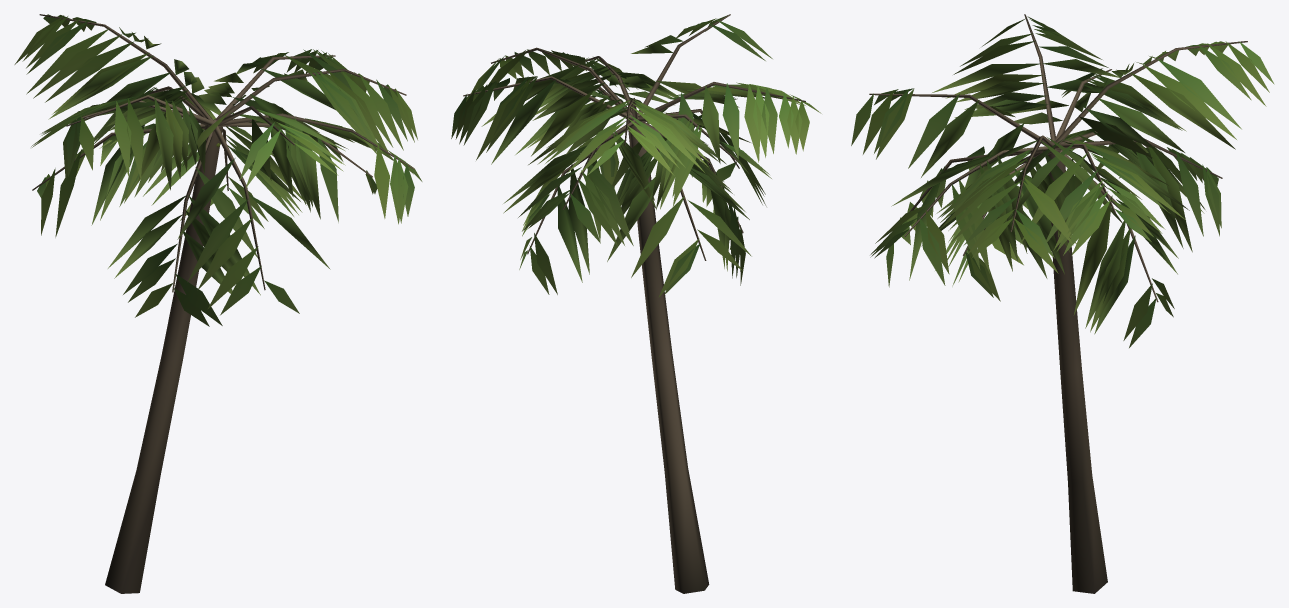
Rendered from palm-a.lod2.glb.
3 views of the same model, side by side, from view 1: azimuth 30°, elevation 25°; view 2: azimuth 150°, elevation 25°; view 3: azimuth 270°, elevation 25° (orthographic). The views are drawn at different scales.
Bounding box in the file's own units: 6.16 × 8.67 × 6.05.
